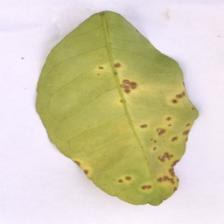canker: (70, 45, 224, 224)
